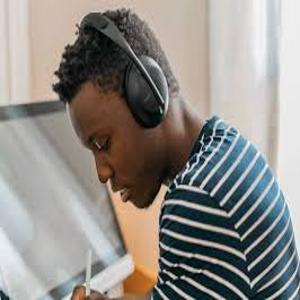Headphones: (72, 12, 170, 127)
